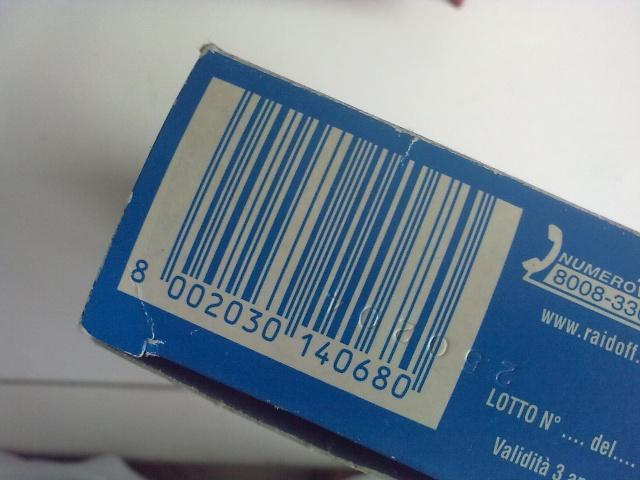Barcode: (125, 84, 504, 406)
